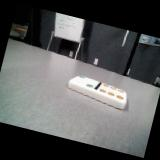domino: (68, 75, 126, 108)
